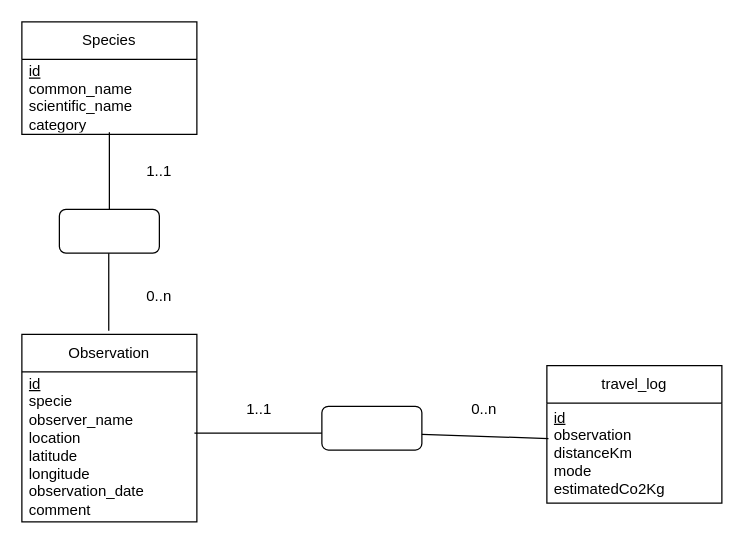
Some shapes in this 744 by 544 pixel diagram are drawn without their labels. Here are the shapes that lost their labels. From the top down, the box of each, then its label:
(58, 208, 159, 253): concerne
(321, 405, 422, 450): est lié à
